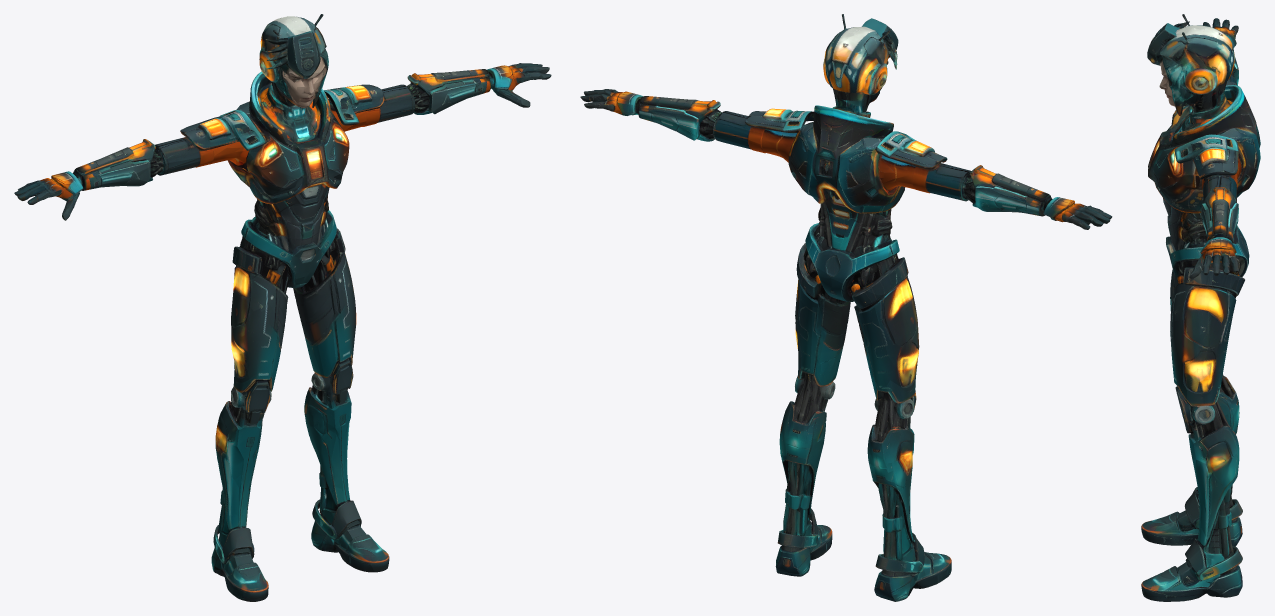
File: nexus-council-mesh.glb
3 renders of one model, left to right at view 1: azimuth 30°, elevation 25°; view 2: azimuth 150°, elevation 25°; view 3: azimuth 270°, elevation 25°, orthographic.
Parts seen in each view (by area): view 1: Mesh_0; view 2: Mesh_0; view 3: Mesh_0.
Boxes of the visible parts, x1,y1,x2,y2 form: Mesh_0: (14,14,551,601); Mesh_0: (580,14,1112,601); Mesh_0: (1141,14,1260,601).
Size of the model in its own units: 1.9 by 1.89 by 0.376.
1 material, 1 textured.
